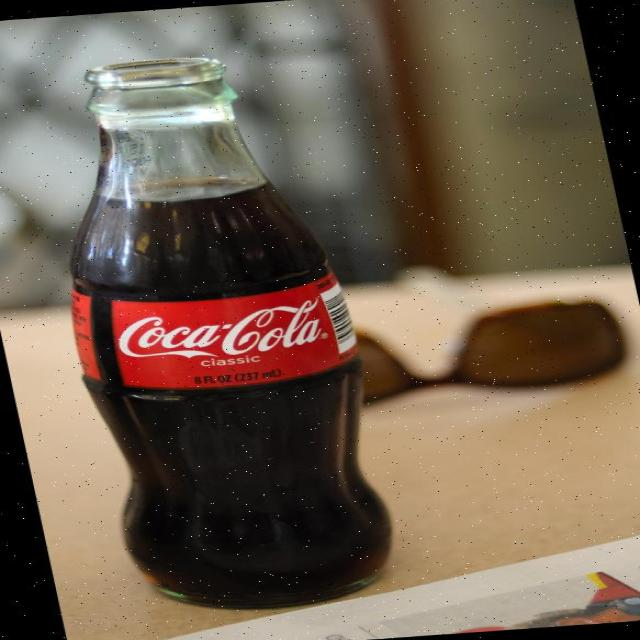coca-cola: (6, 38, 427, 623)
